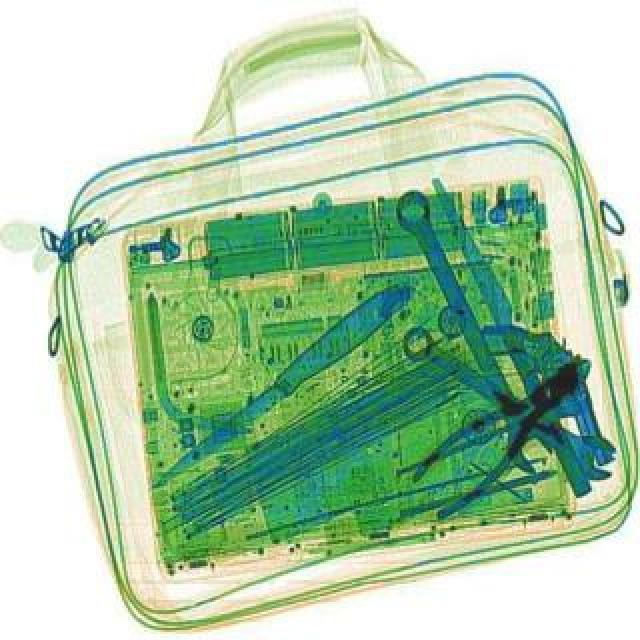gun: (474, 302, 616, 484)
knife: (136, 276, 412, 500), (428, 174, 594, 496)
scissors: (384, 180, 564, 480), (392, 316, 628, 486)
wrench: (394, 338, 612, 524)
